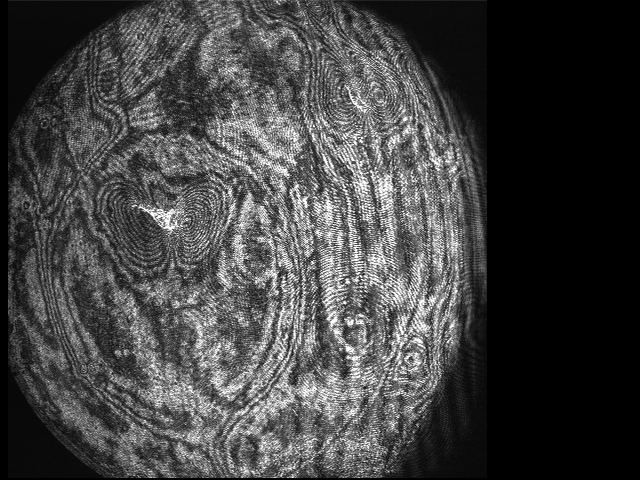plume: (102, 186, 229, 272)
